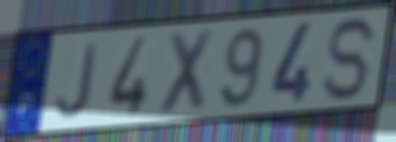4: (268, 19, 316, 107), (105, 33, 151, 119)
9: (217, 26, 267, 110)
J: (54, 40, 102, 121)
S: (320, 13, 382, 105)
X: (155, 25, 218, 119)
